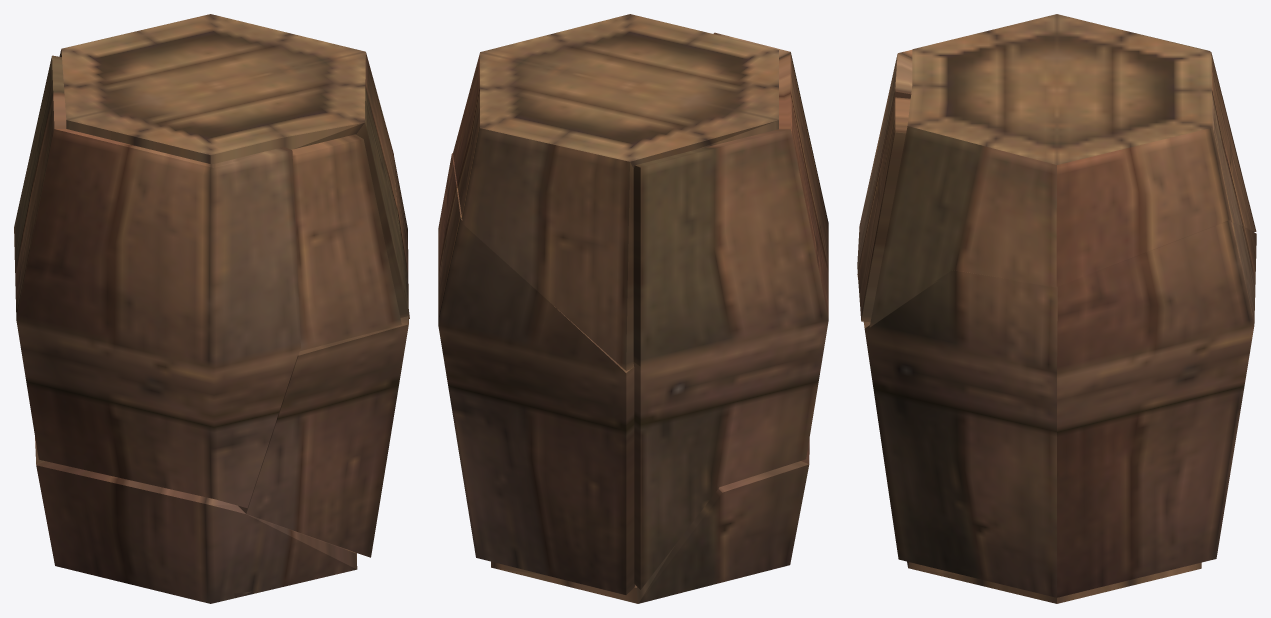
File: mutong01@idle.FBX
The picture shows the model from 3 angles, left to right: view 1: azimuth 30°, elevation 25°; view 2: azimuth 150°, elevation 25°; view 3: azimuth 270°, elevation 25°; orthographic projection.
Visible parts, largest first — view 1: 对象001, 对象003, common_city_mutong01_po, 对象004, 对象002; view 2: 对象001, 对象003, 对象004, common_city_mutong01_po; view 3: 对象004, 对象003, 对象002, 对象001, common_city_mutong01_po.
Boxes of the visible parts, x1,y1,x2,y2 form: 对象001: (14, 55, 300, 508); 对象003: (59, 14, 409, 319); common_city_mutong01_po: (35, 437, 357, 603); 对象004: (238, 157, 408, 557); 对象002: (291, 134, 401, 351); 对象001: (633, 32, 828, 589); 对象003: (453, 14, 778, 370); 对象004: (438, 153, 634, 594); common_city_mutong01_po: (491, 438, 809, 603); 对象004: (857, 220, 1256, 597); 对象003: (869, 14, 1256, 327); 对象002: (857, 97, 910, 322); 对象001: (857, 31, 1210, 269); common_city_mutong01_po: (907, 561, 1201, 603).
Bounding box in the file's own units: 0.9985 × 1.09 × 0.8814.
